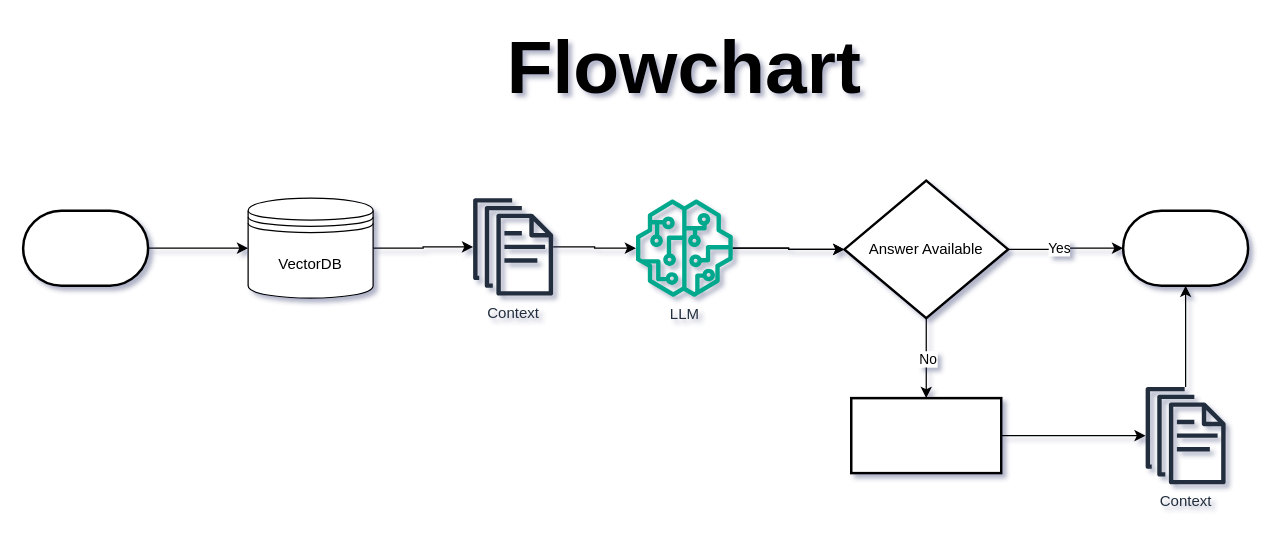
Some shapes in this 1278 by 539 pixel diagram are drawn without their labels. The shapes that lost their labels are listed below. From the top down, each one's box as (x1, y1, x2, y2) in pixels, then its label:
(21, 209, 149, 286): Input
(1121, 209, 1249, 286): Answer
(849, 396, 1002, 474): Web Search
